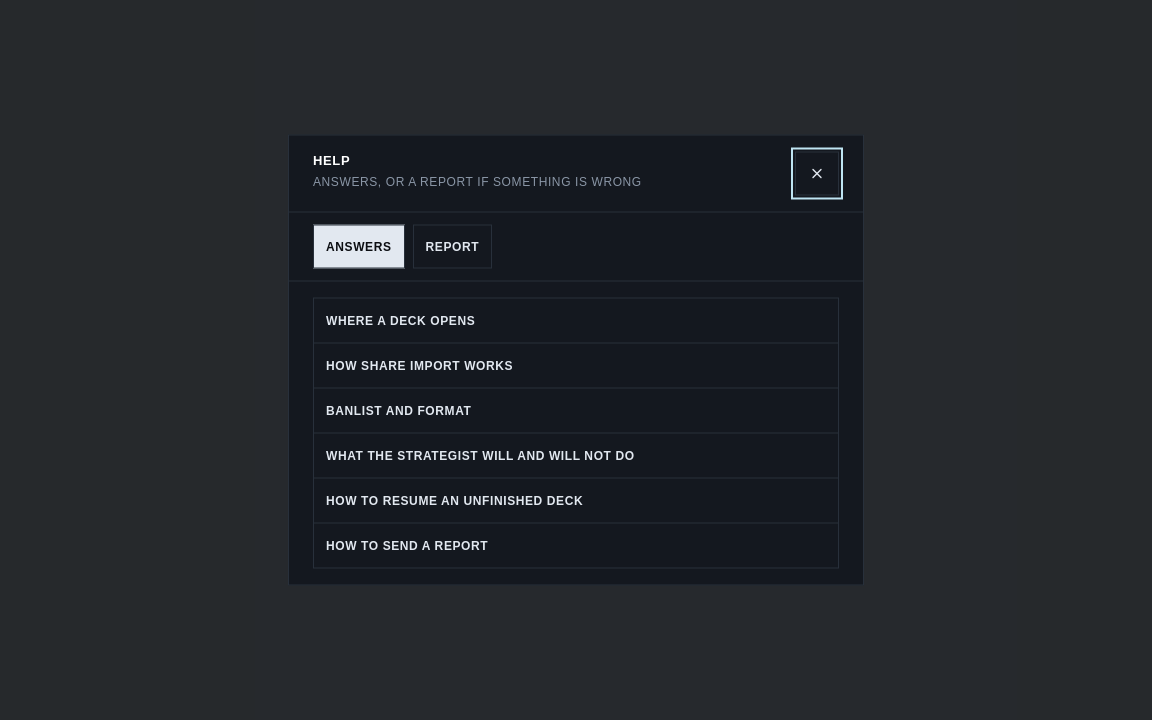
Test: HelpDialog › opens answers without axe violations, then the report form
Expected: the dialog "Help" is shown, [288,134,864,586]
Expected: the heading "Where a deck opens" is shown, [326,313,475,327]
Click the tab "Report" at (452, 246), box [412,224,492,268]
(page scrolled)
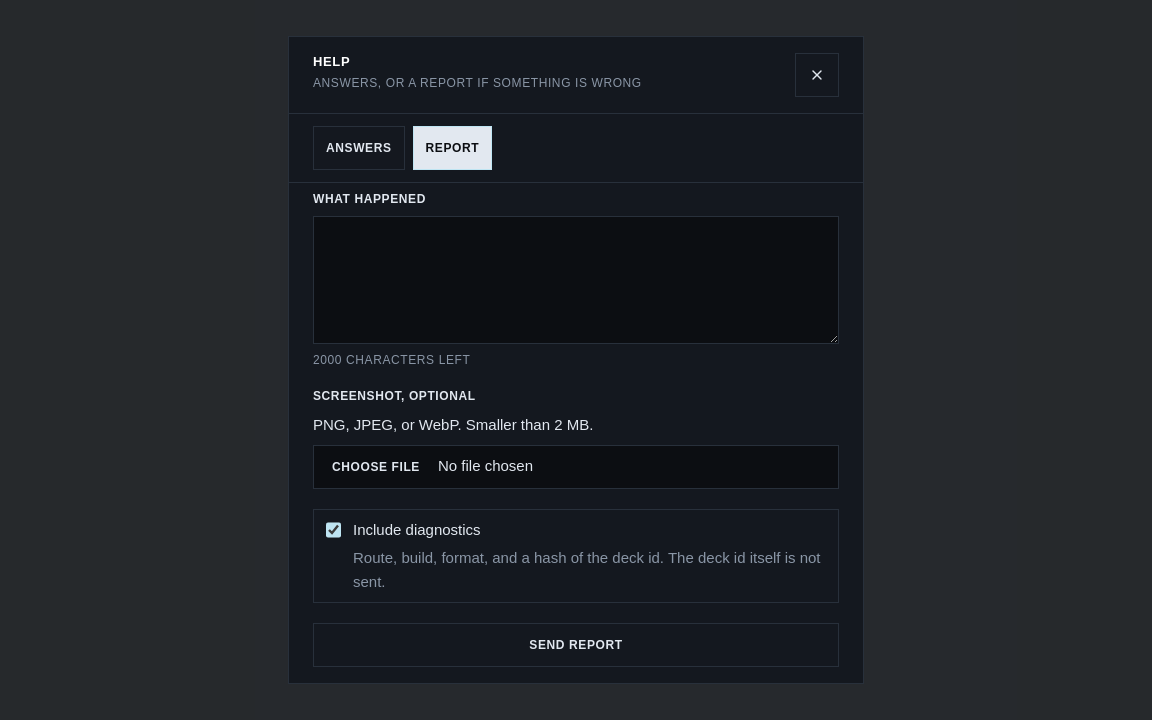
Now the text box labelled "What happened" is shown, box [313,216,839,344]
Now the file field labelled "Screenshot, optional" is shown, box [313,445,839,489]
Now the text "PNG, JPEG, or WebP. Smaller than 2 MB." is shown, box [313,416,593,433]
